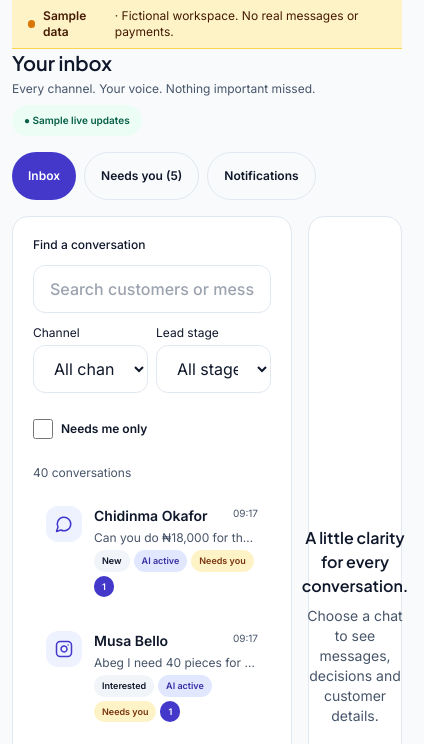
Test: defaults notifications to ready-to-pay and needs-you only and remembers read/preferences across inbox tabs
Expected: the text "40 conversations" is shown, [33,465,131,481]
Click the tab "Notifications".
click(261, 176)  # box [207,152,316,200]
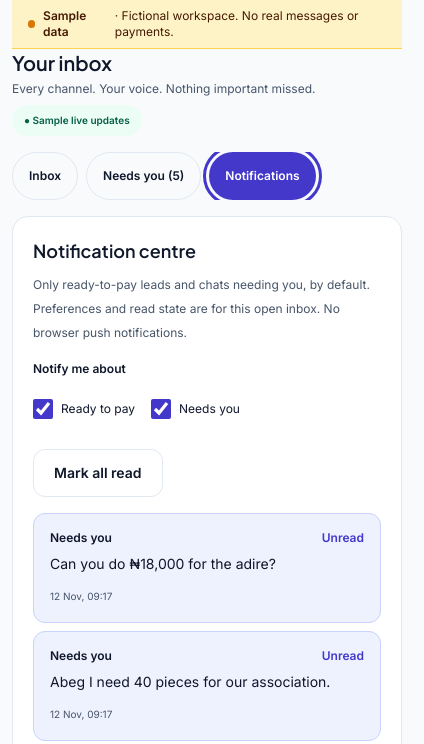
Result: the checkbox labelled "Ready to pay" is checked at [33,399,53,419]
Result: the checkbox labelled "Needs you" is checked at [151,399,171,419]
Click the button "Mark all read".
click(98, 473)  # box [33,449,163,497]
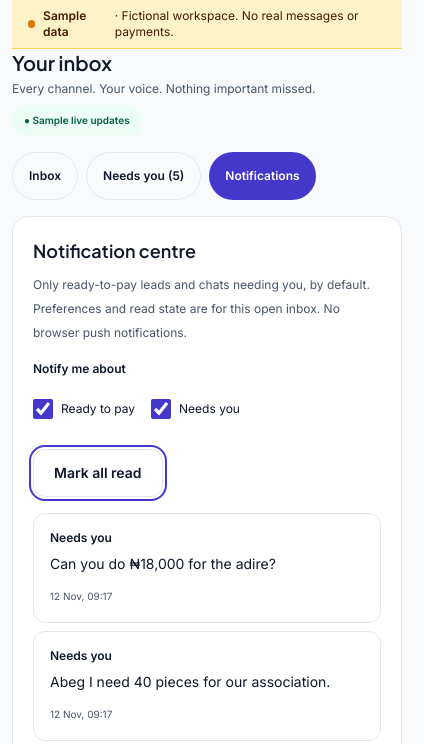
Result: the text "Unread" is gone
Click the checkbox labelled "Ready to pay".
click(43, 409)  # box [33,399,53,419]
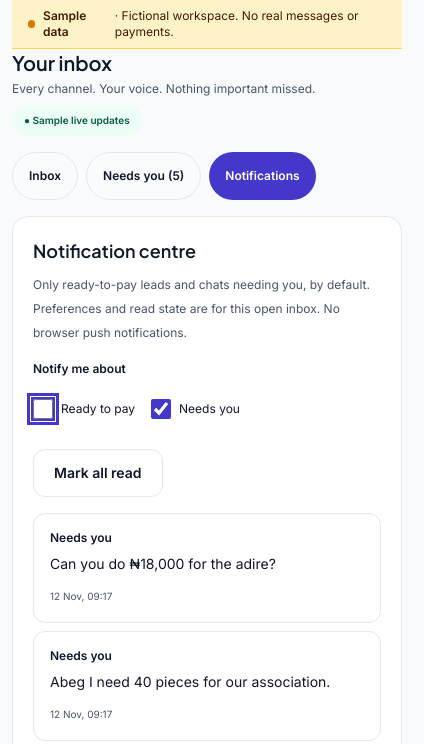
Click the tab "Inbox".
click(45, 176)  # box [12,152,78,200]
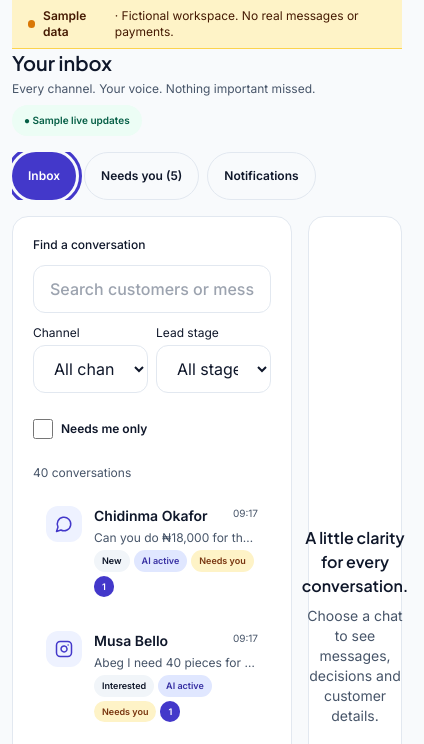
Press End
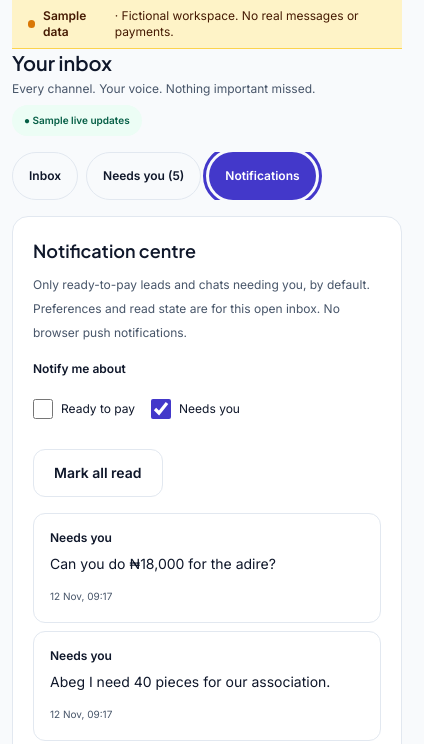
Expected: the text "Unread" is not shown
Result: the checkbox labelled "Ready to pay" is not checked at [33,399,53,419]
Click the checkbox labelled "Needs you".
click(161, 409)  # box [151,399,171,419]
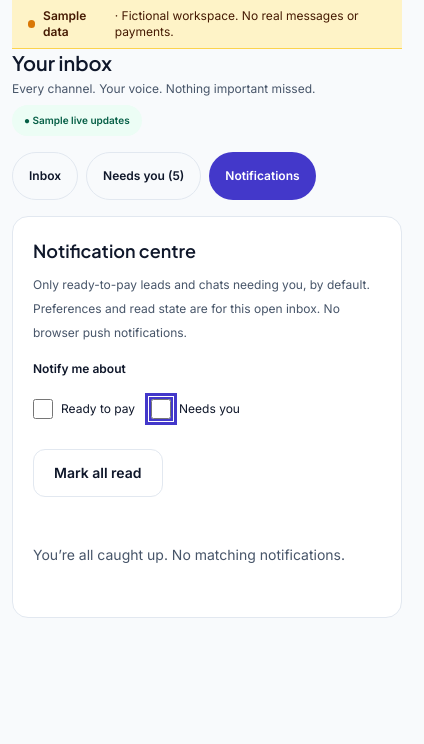
Result: the text "You’re all caught up. No matching notifications." is shown at [33,546,345,563]
